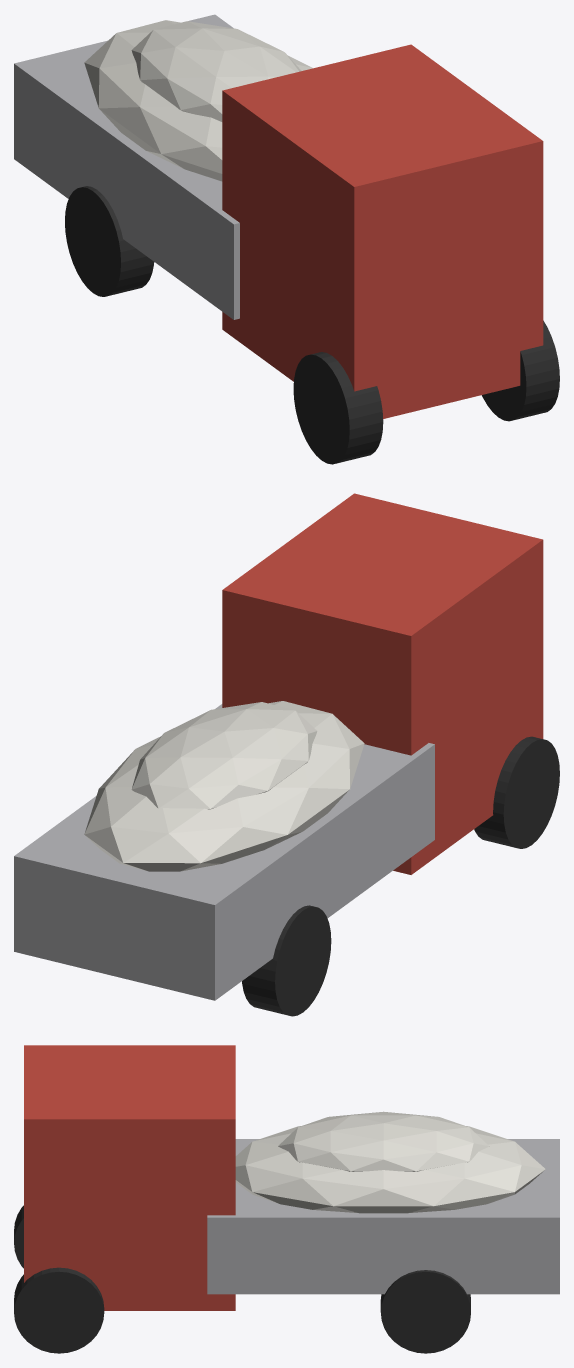
Rendered from SnowTruck.glb.
3 views of the same model, one above another, from view 1: azimuth 30°, elevation 25°; view 2: azimuth 150°, elevation 25°; view 3: azimuth 270°, elevation 25° (orthographic). The views are drawn at different scales.
Visible parts, largest first — view 1: TruckCab, TruckBed, TruckHeap, TruckLoad, TruckWheel1, TruckWheel3, TruckWheel2; view 2: TruckCab, TruckBed, TruckLoad, TruckHeap, TruckWheel1, TruckWheel3; view 3: TruckCab, TruckBed, TruckLoad, TruckHeap, TruckWheel2, TruckWheel4, TruckWheel1.
Part boxes in pixels (left/top/right/bottom): TruckCab: left=222, top=44, right=543, bottom=418; TruckBed: left=14, top=14, right=239, bottom=319; TruckHeap: left=131, top=21, right=301, bottom=121; TruckLoad: left=84, top=20, right=312, bottom=181; TruckWheel1: left=293, top=352, right=383, bottom=464; TruckWheel3: left=65, top=186, right=154, bottom=296; TruckWheel2: left=482, top=320, right=559, bottom=421; TruckCab: left=222, top=493, right=543, bottom=874; TruckBed: left=14, top=704, right=434, bottom=1000; TruckLoad: left=84, top=701, right=364, bottom=871; TruckHeap: left=131, top=702, right=317, bottom=809; TruckWheel1: left=474, top=736, right=559, bottom=848; TruckWheel3: left=242, top=905, right=331, bottom=1016; TruckCab: left=24, top=1045, right=235, bottom=1310; TruckBed: left=207, top=1139, right=559, bottom=1294; TruckLoad: left=235, top=1126, right=545, bottom=1213; TruckHeap: left=278, top=1111, right=489, bottom=1171; TruckWheel2: left=14, top=1267, right=104, bottom=1353; TruckWheel4: left=380, top=1270, right=470, bottom=1353; TruckWheel1: left=14, top=1205, right=23, bottom=1268.
Size of the model in its own units: 1.38 by 1.8 by 3.87.
